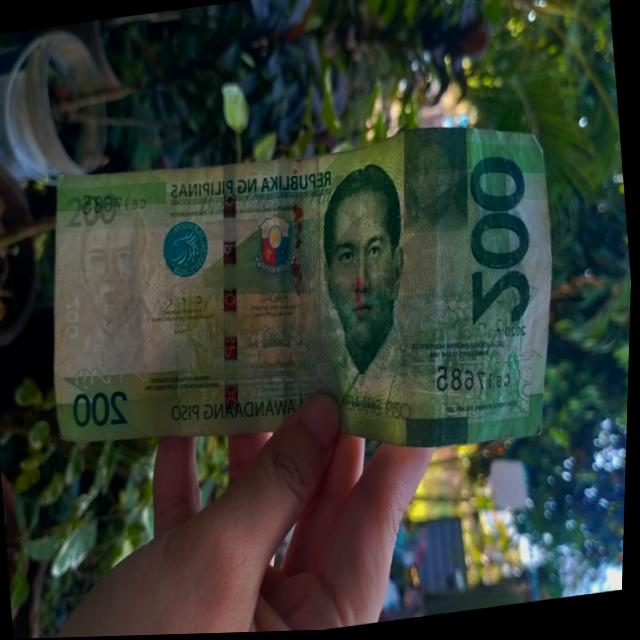serial_number: (428, 351, 522, 411), (76, 178, 163, 228)
value: (453, 139, 546, 345)
value_watermark: (60, 284, 93, 351)
watermark: (56, 201, 175, 377)
